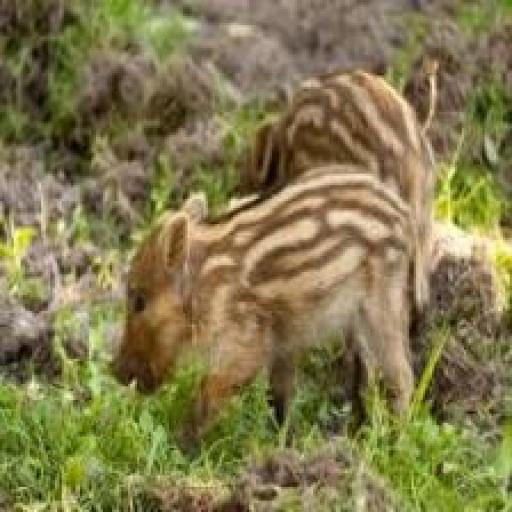Pig: (105, 156, 438, 460), (228, 62, 439, 294)
